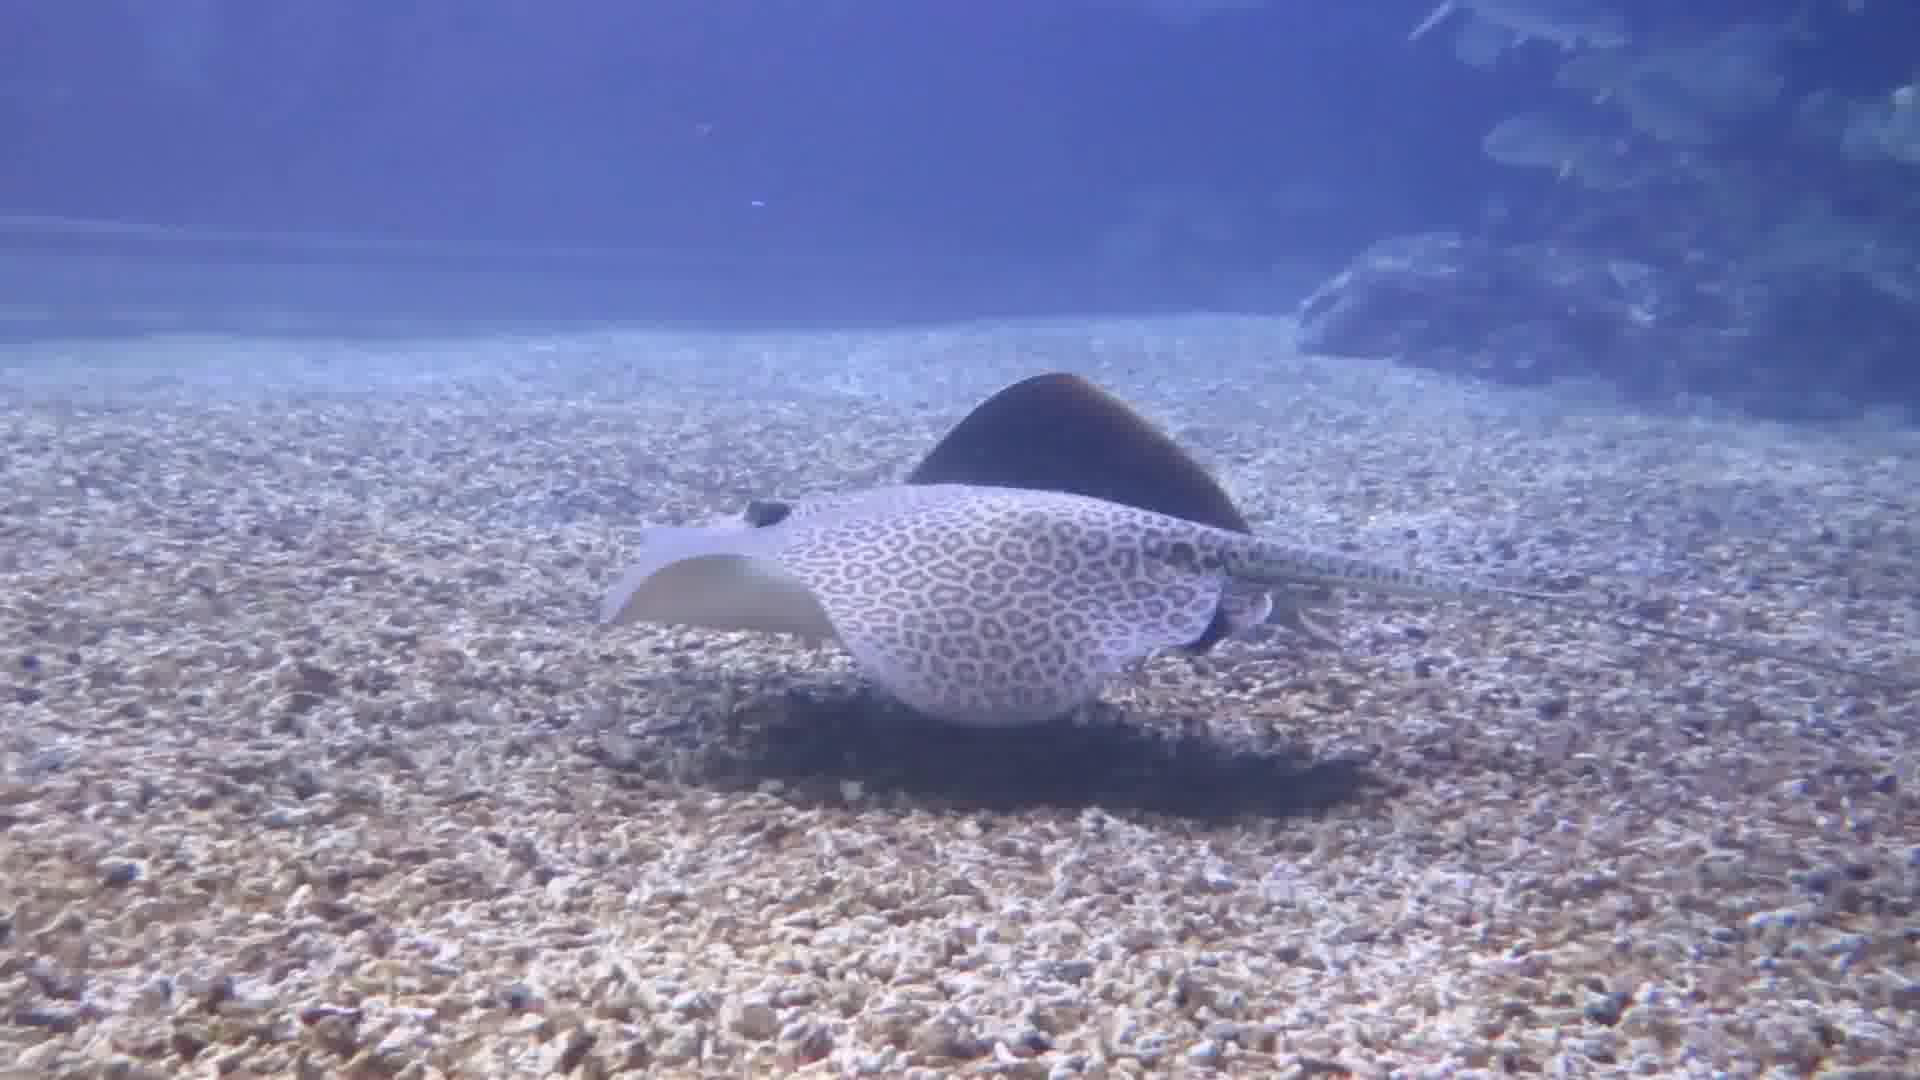Himantura uarnak: (538, 348, 1913, 827)
